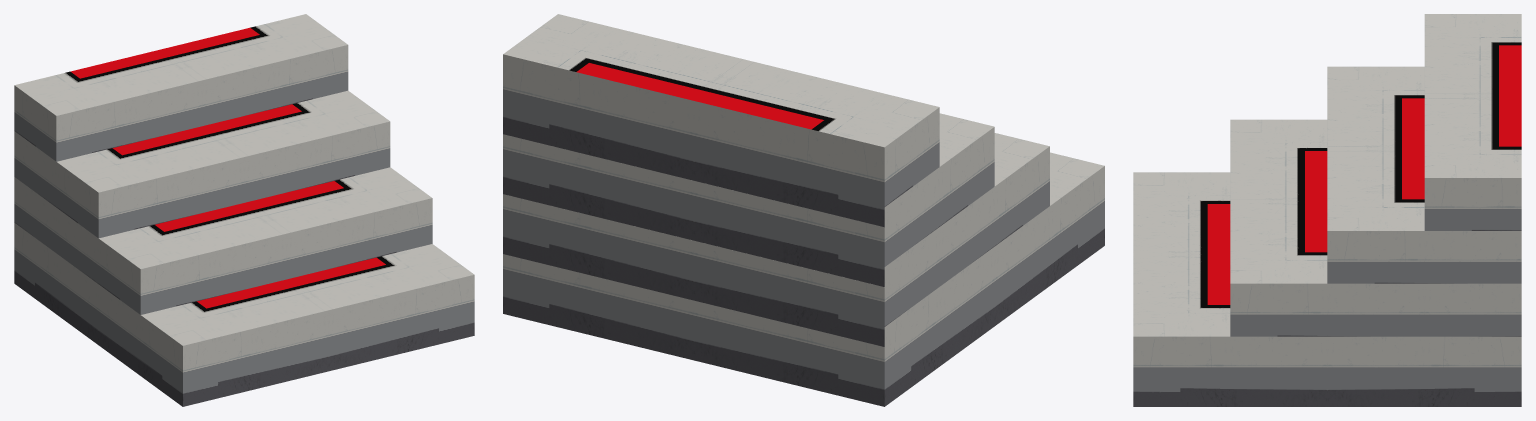
Rendered from G_Env_Arch_Stairs_Metal_02_Med.fbx.
The picture shows the model from 3 angles, left to right: view 1: azimuth 30°, elevation 25°; view 2: azimuth 150°, elevation 25°; view 3: azimuth 270°, elevation 25°; orthographic projection. The views are drawn at different scales.
Visible parts, largest first — view 1: G_Env_Arch_Stairs_Metal_02_Med; view 2: G_Env_Arch_Stairs_Metal_02_Med; view 3: G_Env_Arch_Stairs_Metal_02_Med.
Boxes of the visible parts, box(x1,y1,x2,y2) form: G_Env_Arch_Stairs_Metal_02_Med: box(14, 14, 474, 406); G_Env_Arch_Stairs_Metal_02_Med: box(503, 14, 1104, 406); G_Env_Arch_Stairs_Metal_02_Med: box(1133, 14, 1521, 406).
Bounding box in the file's own units: 500 × 325 × 500.
